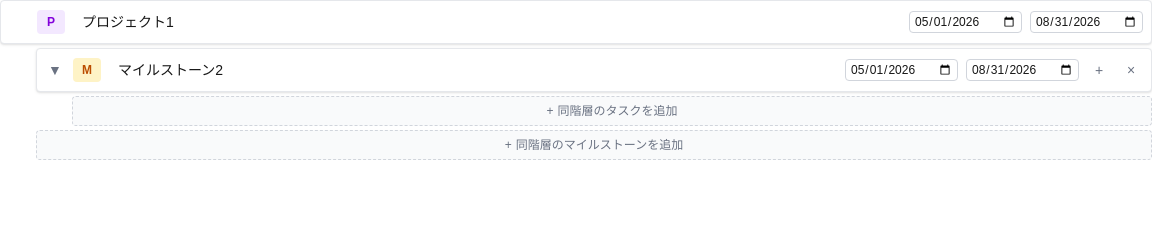
Test case: ManagementTree — 折り畳み後の Task 追加でスクロール › Milestone を折り畳んだ後 Task 追加時に親 Milestone が自動展開される（EmptyStack 版）
The image size is (1164, 225).
Check: the button "+ 同階層のタスクを追加" is shown, box [72, 96, 1152, 126]
Milestone を折り畳む
Click the button named "折り畳む". click: (55, 70)
box: [45, 60, 65, 80]
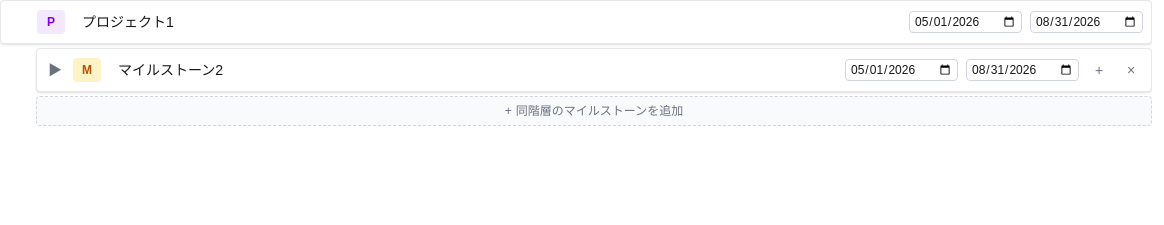
Check: the button "同階層のタスクを追加" is gone
handleAddTask を直接テストするため Milestone を展開
Click the button named "展開する". click: (55, 70)
box: [45, 60, 65, 80]
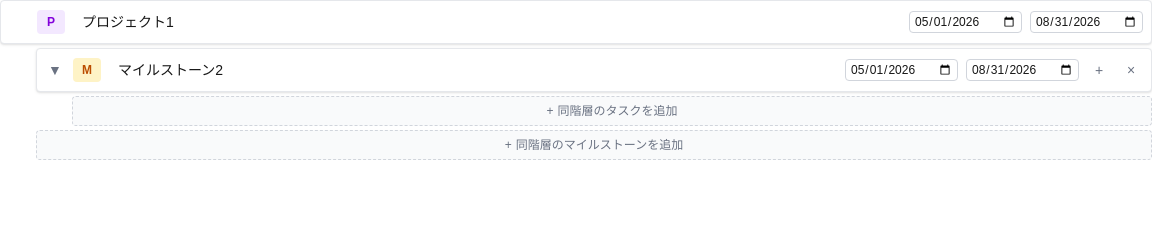
EmptyStack で Task を追加
Click the button "+ 同階層のタスクを追加". click: (612, 111)
box: [72, 96, 1152, 126]
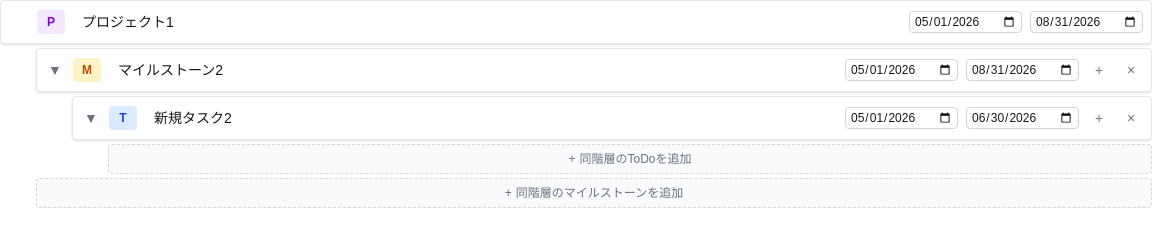
Check: the 3rd field showing "新規タスク2" is shown, box [145, 103, 837, 133]
